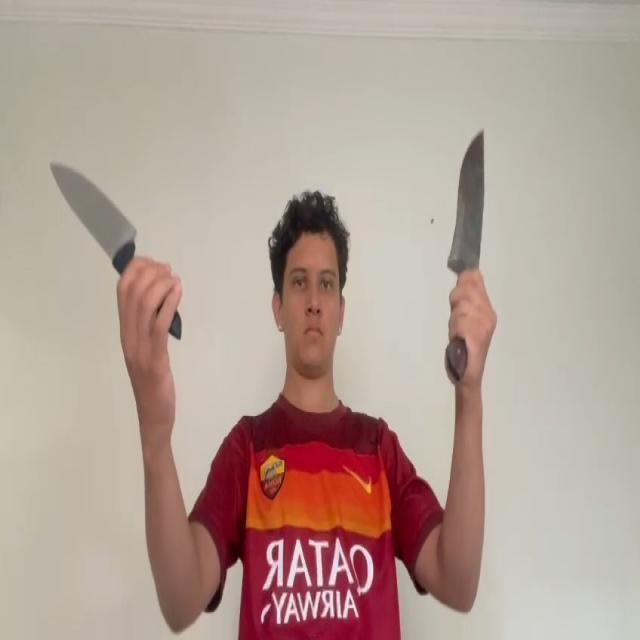knife: (50, 161, 138, 243), (451, 130, 486, 268)
